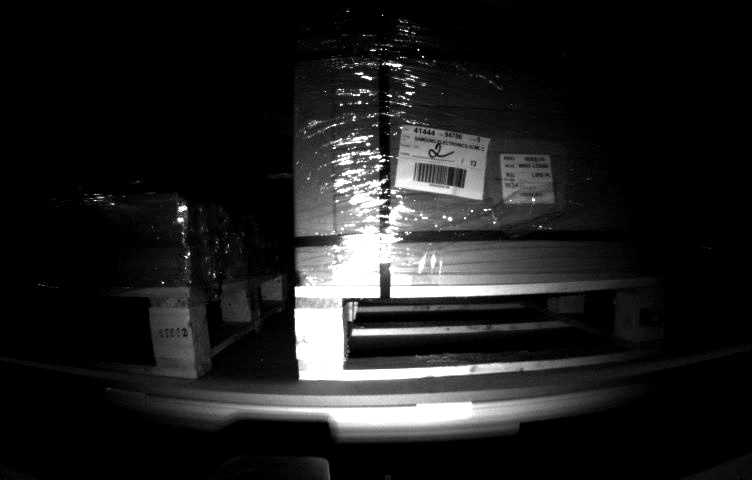True Barcode: (499, 150, 557, 206)
